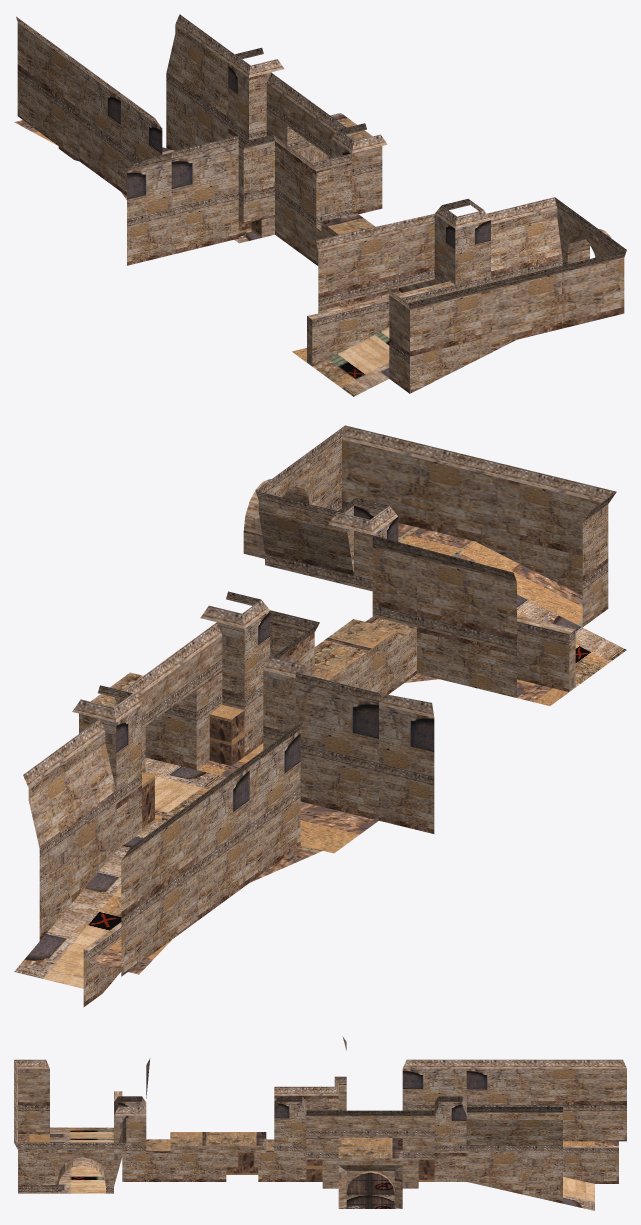
File: DustParts4.fbx
3 views of the same model, one above another, from view 1: azimuth 30°, elevation 25°; view 2: azimuth 150°, elevation 25°; view 3: azimuth 270°, elevation 25° (orthographic). The views are drawn at different scales.
Visible parts, largest first — view 1: Trigger4; view 2: Trigger4; view 3: Trigger4.
Boxes of the visible parts, x1,y1,x2,y2 form: Trigger4: [14, 14, 626, 396]; Trigger4: [14, 425, 626, 1006]; Trigger4: [14, 1036, 626, 1210].
Size of the model in its own units: 27.84 by 12.91 by 61.74.
